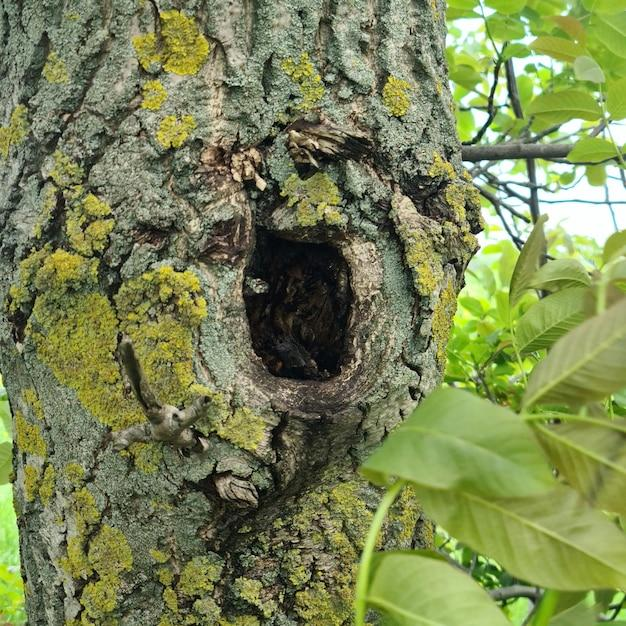hollow: (244, 231, 350, 379)
